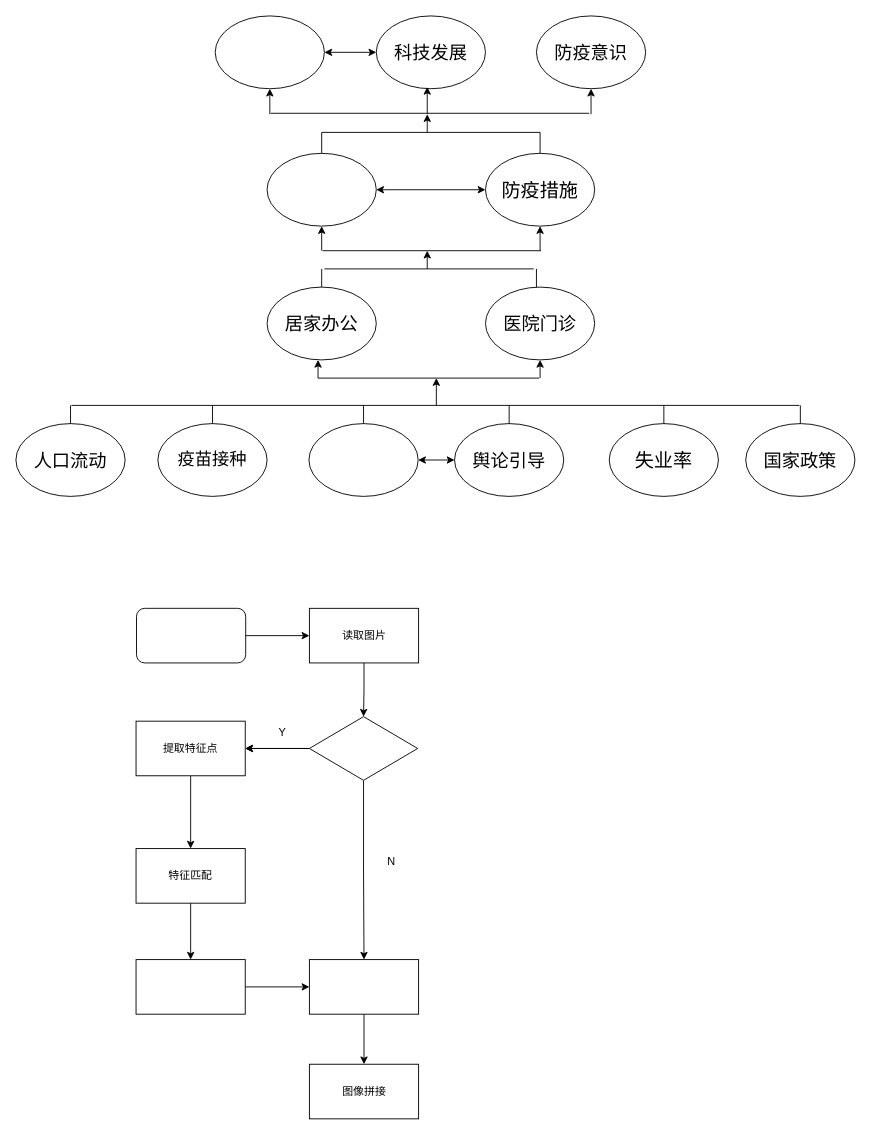
Some shapes in this 871 by 1135 pixel diagram are drawn without their labels. Each missing label, with the centre of its shape:
"公共场所开放度" belongs at (321,189).
"单应矩阵是否为空" belongs at (363,748).
"启动设备" belongs at (191,635).
"媒体报道" belongs at (363,459).
"新毒株" belongs at (269,52).
"计算单应矩阵" belongs at (190,986).
"透视变换" belongs at (363,986).
